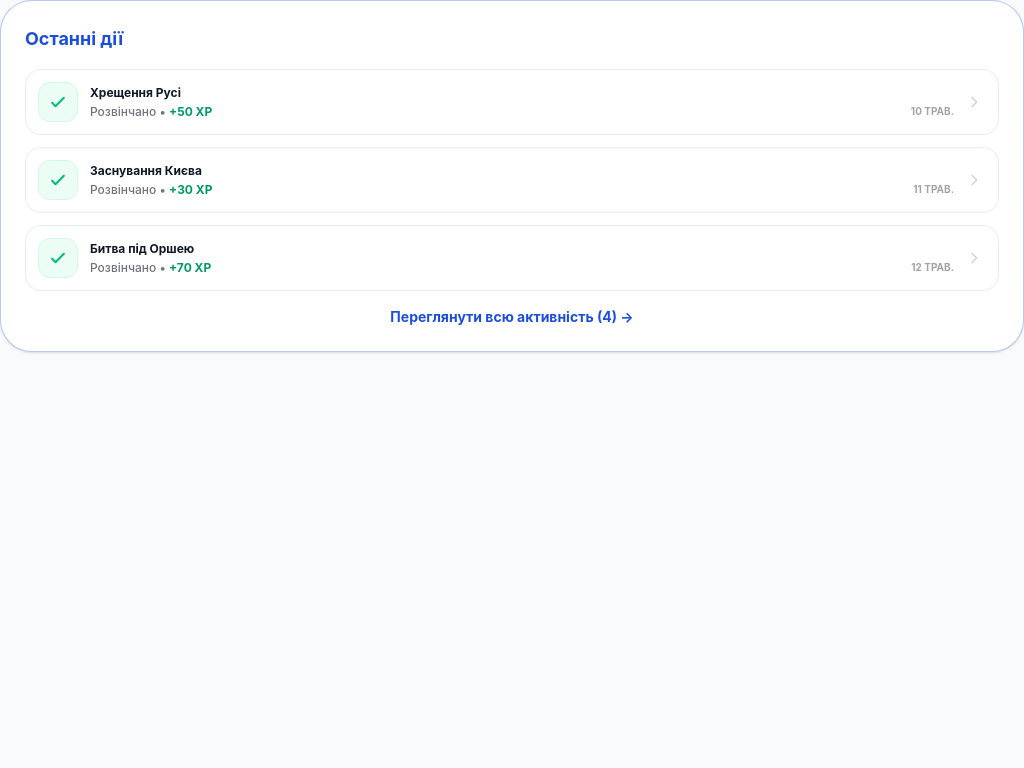
Test: Компонент ProfileRecentActivity › Відкриває модальне вікно при кліку на кнопку та показує повний список
Імітуємо клік користувача
Click the button "Переглянути всю активність (4) →" at (512, 317), box [25, 307, 999, 327]
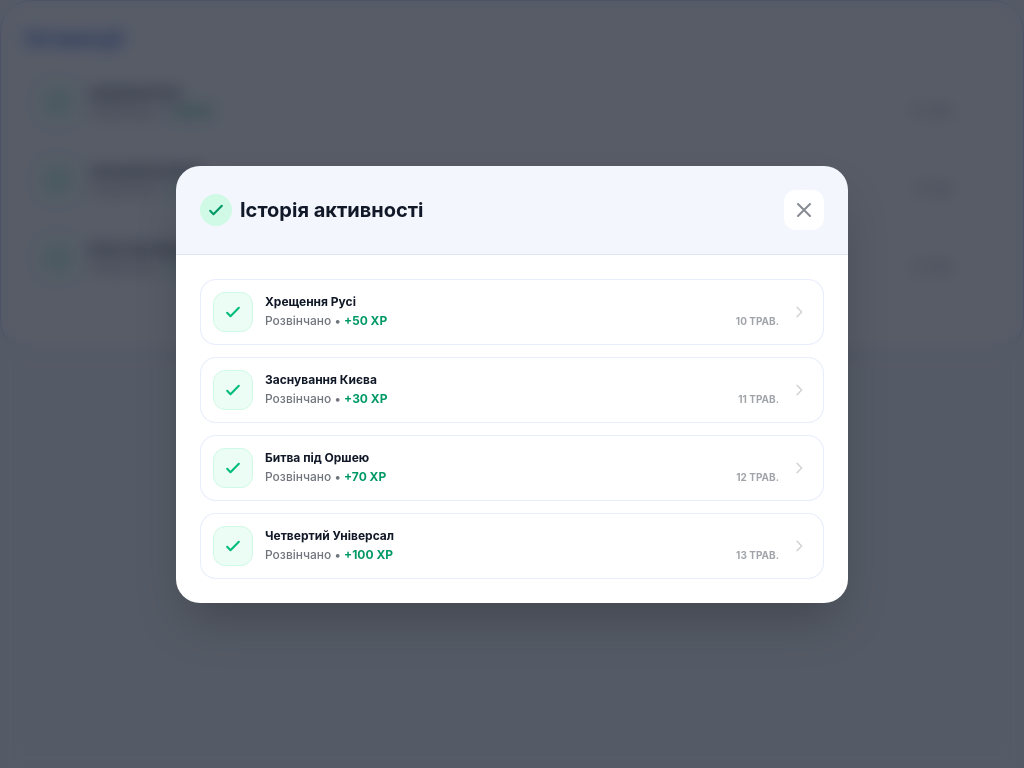
Now the text "Четвертий Універсал" is shown, box [265, 528, 394, 543]
